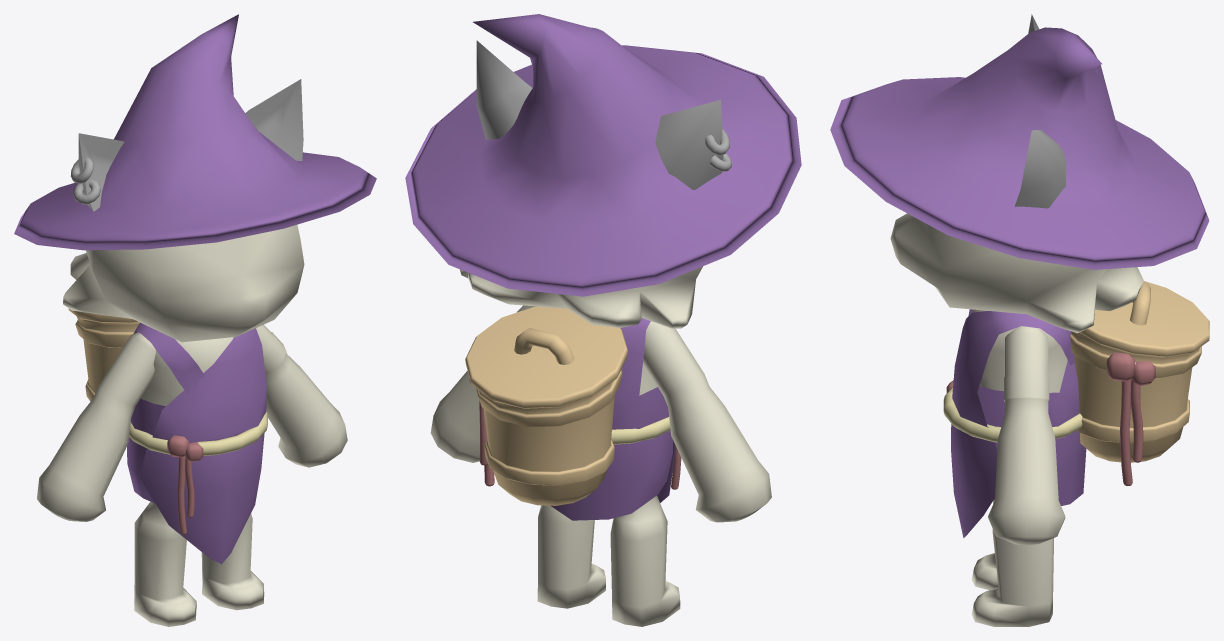
Rendered from MA_Char_MC_fbx.fbx.
The picture shows the model from 3 angles, left to right: view 1: azimuth 30°, elevation 25°; view 2: azimuth 150°, elevation 25°; view 3: azimuth 270°, elevation 25°; orthographic projection. The views are drawn at different scales.
Visible parts, largest first — view 1: hat_f, shirt_f, head_f, body_f, rArm_f, lArm_f, ears_f, basket_f, tassle1_f, belt_f; view 2: hat_f, body_f, lid_f, basket_f, rArm_f, shirt_f, ears_f, head_f, lArm_f, belt_f, tassle2_f; view 3: hat_f, head_f, shirt_f, lArm_f, basket_f, body_f, lid_f, tassle2_f, ears_f, belt_f.
Boxes of the visible parts, bbox=[...] form: hat_f: bbox=[14, 14, 376, 250]; shirt_f: bbox=[127, 322, 266, 564]; head_f: bbox=[63, 225, 304, 342]; body_f: bbox=[134, 337, 264, 626]; rArm_f: bbox=[37, 332, 155, 521]; lArm_f: bbox=[256, 324, 347, 467]; ears_f: bbox=[70, 79, 303, 211]; basket_f: bbox=[75, 317, 139, 401]; tassle1_f: bbox=[167, 435, 203, 534]; belt_f: bbox=[129, 412, 267, 455]; hat_f: bbox=[405, 14, 801, 296]; body_f: bbox=[537, 362, 680, 626]; lid_f: bbox=[465, 306, 627, 408]; basket_f: bbox=[475, 370, 622, 505]; rArm_f: bbox=[643, 321, 771, 522]; shirt_f: bbox=[550, 318, 676, 520]; ears_f: bbox=[476, 40, 732, 189]; head_f: bbox=[459, 266, 702, 328]; lArm_f: bbox=[430, 305, 536, 462]; belt_f: bbox=[611, 417, 670, 444]; tassle2_f: bbox=[469, 378, 494, 486]; hat_f: bbox=[830, 27, 1209, 269]; head_f: bbox=[890, 213, 1143, 333]; shirt_f: bbox=[951, 309, 1086, 537]; lArm_f: bbox=[988, 326, 1065, 545]; basket_f: bbox=[1070, 331, 1201, 462]; body_f: bbox=[971, 309, 1067, 626]; lid_f: bbox=[1079, 281, 1209, 356]; tassle2_f: bbox=[1106, 352, 1155, 485]; ears_f: bbox=[1014, 14, 1066, 208]; belt_f: bbox=[943, 387, 1082, 442].
Bounding box in the file's own units: 2.19 × 3.58 × 2.12.
